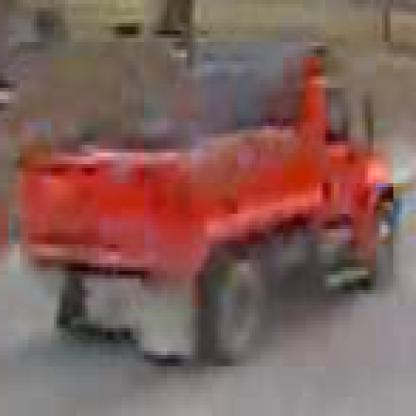truck: (18, 43, 394, 371)
